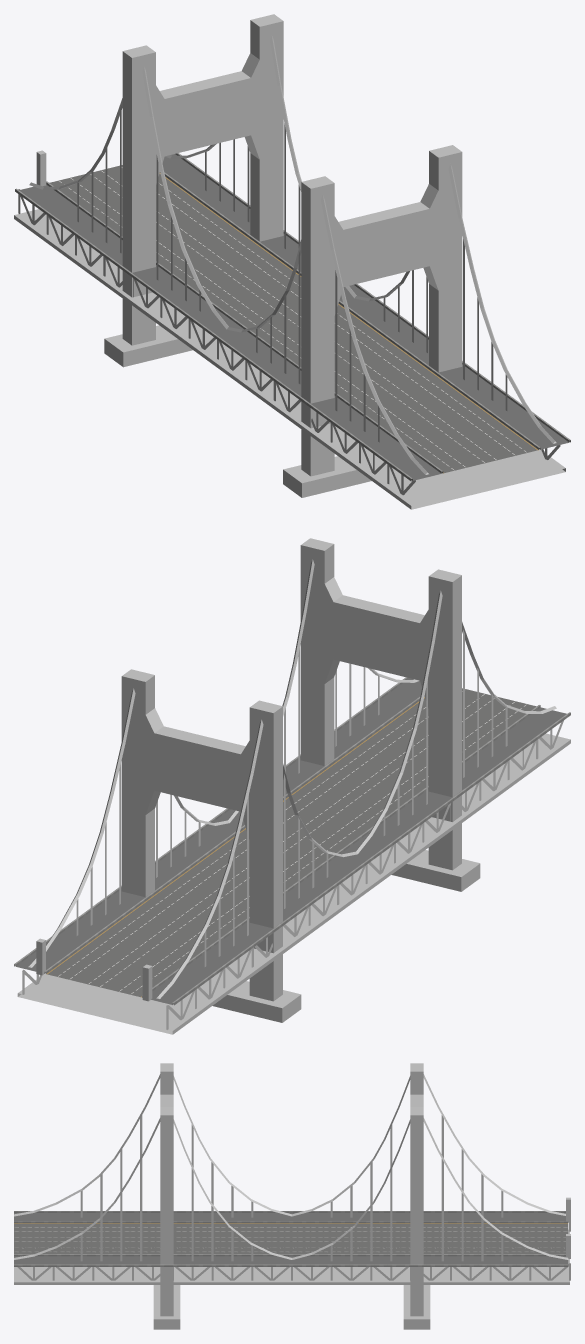
The model's file is Bridge_Gwangalli.fbx.
The picture shows the model from 3 angles, top to bottom: view 1: azimuth 30°, elevation 25°; view 2: azimuth 150°, elevation 25°; view 3: azimuth 270°, elevation 25°; orthographic projection. The views are drawn at different scales.
Parts seen in each view (by area): view 1: Bridge_GwangAlLi_B_01, Bridge_GwangAlLi_B_02; view 2: Bridge_GwangAlLi_B_01, Bridge_GwangAlLi_B_02; view 3: Bridge_GwangAlLi_B_01, Bridge_GwangAlLi_B_02.
Part boxes in pixels (x1,y1,x2,y2): Bridge_GwangAlLi_B_01: [14, 14, 570, 509]; Bridge_GwangAlLi_B_02: [36, 150, 502, 475]; Bridge_GwangAlLi_B_01: [14, 538, 570, 1034]; Bridge_GwangAlLi_B_02: [36, 725, 508, 1001]; Bridge_GwangAlLi_B_01: [14, 1063, 570, 1329]; Bridge_GwangAlLi_B_02: [91, 1197, 570, 1315].
Bounding box in the file's own units: 10850 × 18108 × 43200.
